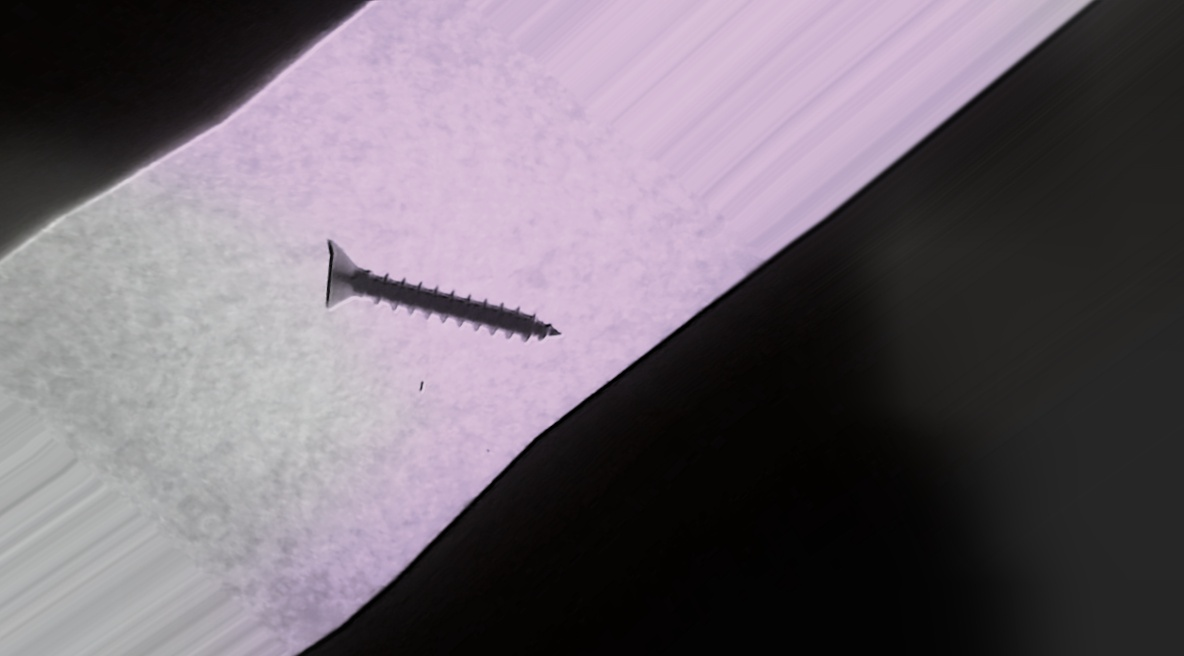S001: (241, 146, 592, 454)
